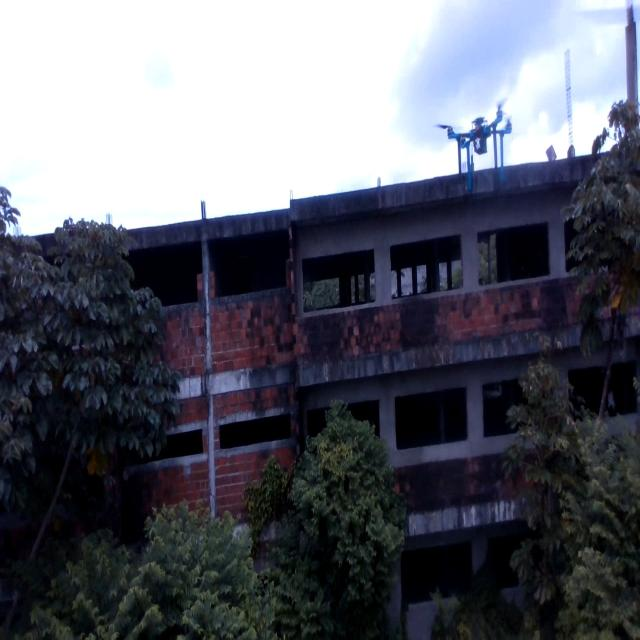-uav-: (432, 92, 516, 230)
